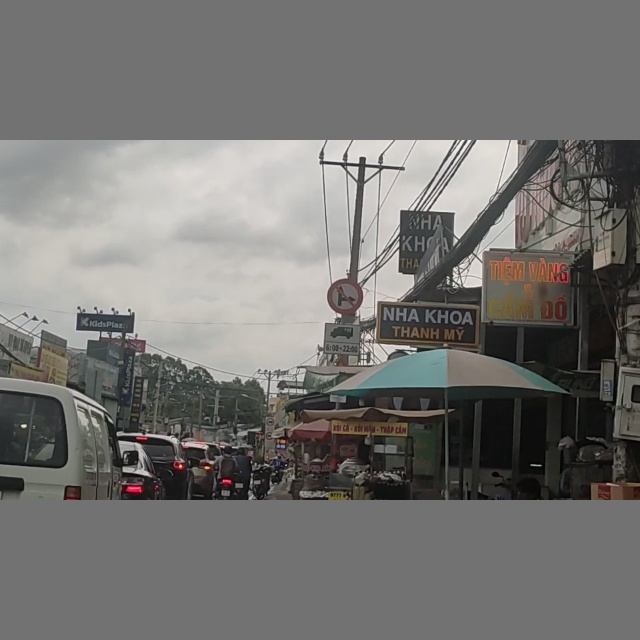P.139: (327, 278, 363, 314)
S.505a*Xe tai: (324, 324, 359, 354)
